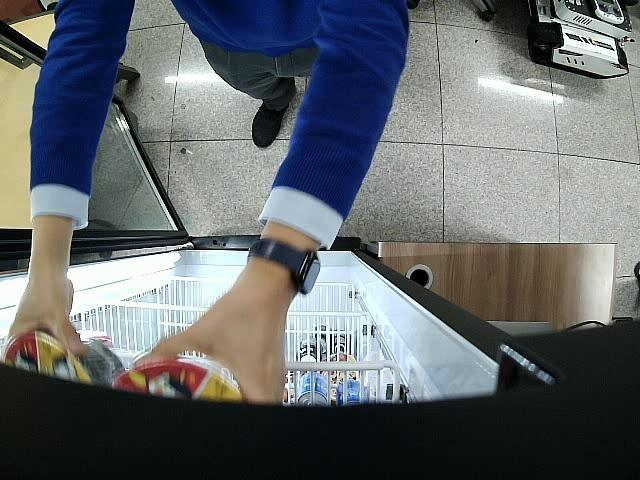07_buldak_L: (4, 330, 127, 390), (114, 358, 244, 402)
